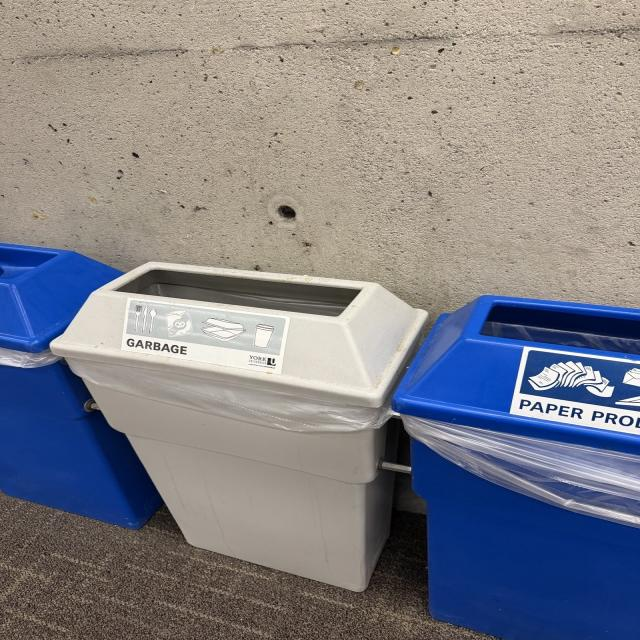Dustbin: (0, 241, 640, 638)
